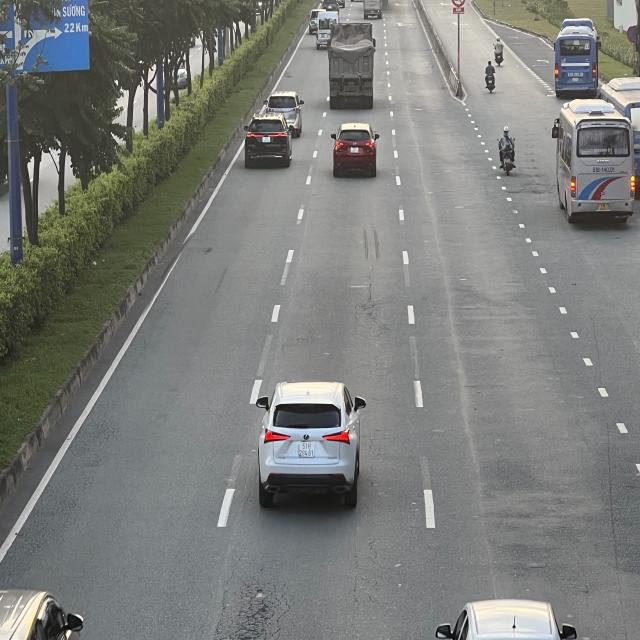car: (254, 382, 364, 511), (244, 115, 295, 169), (333, 121, 381, 177), (265, 89, 304, 137)
coach: (552, 100, 633, 223), (555, 17, 599, 97)
container: (330, 24, 378, 110)
van: (317, 12, 338, 48)
